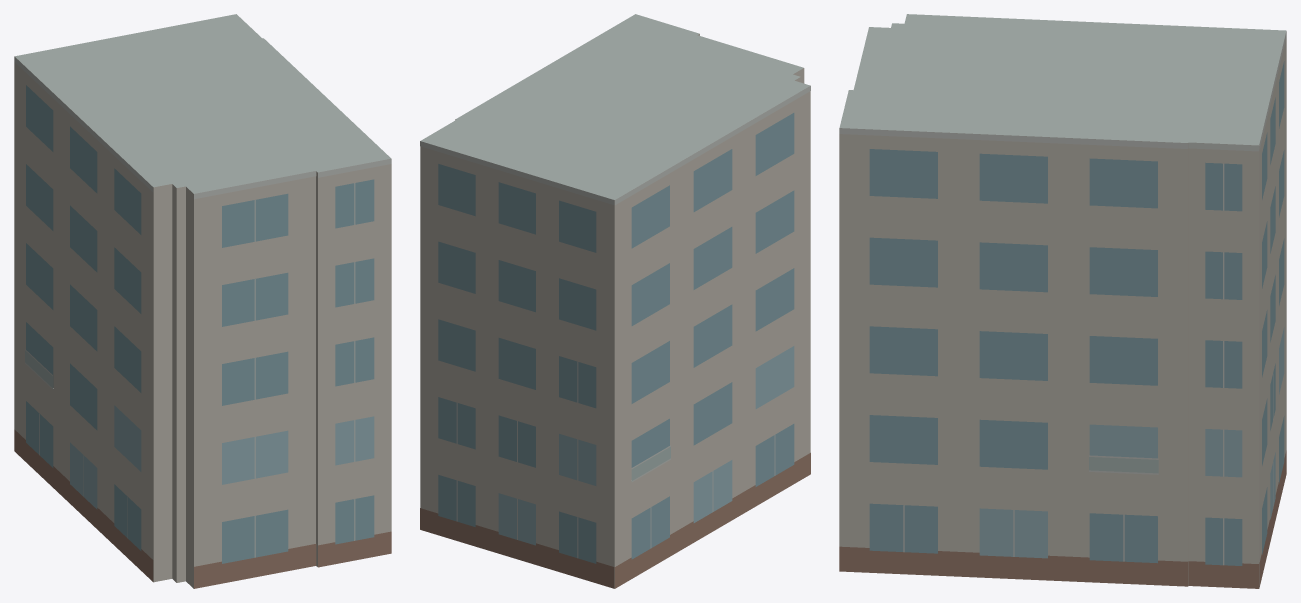
File: survey-upis-32669489.glb
3 renders of one model, left to right at view 1: azimuth 30°, elevation 25°; view 2: azimuth 150°, elevation 25°; view 3: azimuth 270°, elevation 25°, orthographic. The views are drawn at different scales.
Parts seen in each view (by area): view 1: survey-upis-32669489.tmp; view 2: survey-upis-32669489.tmp; view 3: survey-upis-32669489.tmp.
Part boxes in pixels (x1,y1,x2,y2): survey-upis-32669489.tmp: (14,14,391,588); survey-upis-32669489.tmp: (420,14,810,588); survey-upis-32669489.tmp: (839,14,1286,588).
Size of the model in its own units: 11.45 by 18 by 16.46.
